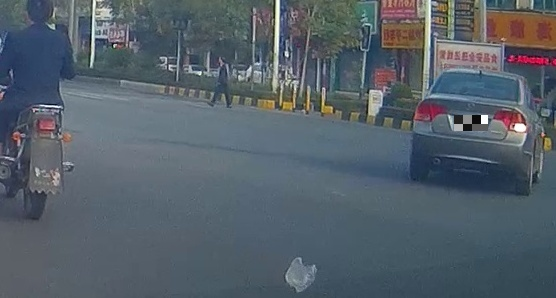L_light: (412, 101, 448, 122)
R_light: (492, 108, 527, 133)
T_light: (471, 74, 485, 80)
day-right: (409, 66, 534, 195)
plate_1: (454, 115, 488, 131)
